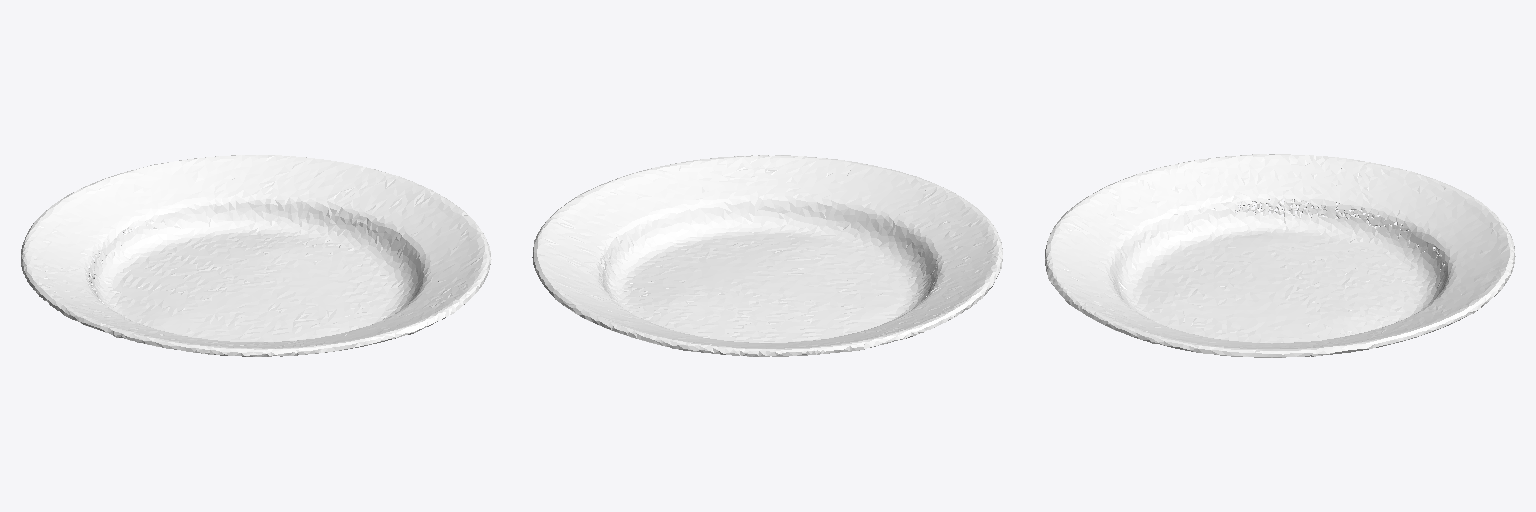
URDF robot description (plate):
<robot name="plate">
    <link name="base_link">
        <visual>
            <origin xyz="0.0 -0.0 -0.0" rpy="0.0 0.0 0.0" />
            <geometry>
                <mesh filename="plate/textured.obj" scale="1 1 1" />
            </geometry>
            <material name="texture">
                <color rgba="1.0 1.0 1.0 1.0" />
            </material>
        </visual>
        <collision>
            <origin xyz="0.0 -0.0 -0.0" rpy="0.0 0.0 0.0" />
            <geometry>
                <mesh filename="plate/textured_coacd_0.stl" scale="1 1 1" />
            </geometry>
        </collision>
        <collision>
            <origin xyz="0.0 -0.0 -0.0" rpy="0.0 0.0 0.0" />
            <geometry>
                <mesh filename="plate/textured_coacd_1.stl" scale="1 1 1" />
            </geometry>
        </collision>
        <collision>
            <origin xyz="0.0 -0.0 -0.0" rpy="0.0 0.0 0.0" />
            <geometry>
                <mesh filename="plate/textured_coacd_2.stl" scale="1 1 1" />
            </geometry>
        </collision>
        <collision>
            <origin xyz="0.0 -0.0 -0.0" rpy="0.0 0.0 0.0" />
            <geometry>
                <mesh filename="plate/textured_coacd_3.stl" scale="1 1 1" />
            </geometry>
        </collision>
        <collision>
            <origin xyz="0.0 -0.0 -0.0" rpy="0.0 0.0 0.0" />
            <geometry>
                <mesh filename="plate/textured_coacd_4.stl" scale="1 1 1" />
            </geometry>
        </collision>
        <inertial>
            <mass value="0.279" />
            <inertia ixx="1e-3" ixy="0.0" ixz="0.0" iyy="1e-3" iyz="0.0" izz="1e-3" />
        </inertial>
    </link>
</robot>

--- Facts derived from the render (not from the file) ---
Views: 3 orthographic renders of the robot side by side, from view 1: azimuth 30°, elevation 25°; view 2: azimuth 150°, elevation 25°; view 3: azimuth 270°, elevation 25°.
Model plate with 1 links and 0 joints (none), rooted at base_link, posed all joints at 0.
Visible links, largest first — view 1: base_link; view 2: base_link; view 3: base_link.
Link boxes in pixels (x1,y1,x2,y2): base_link: (21, 155, 491, 356); base_link: (532, 155, 1002, 356); base_link: (1045, 154, 1515, 357).
Size in the robot's own frame: 0.2599 by 0.26 by 0.0265 metres.
1 mesh visuals loaded from 1 distinct referenced files (1 OBJ).